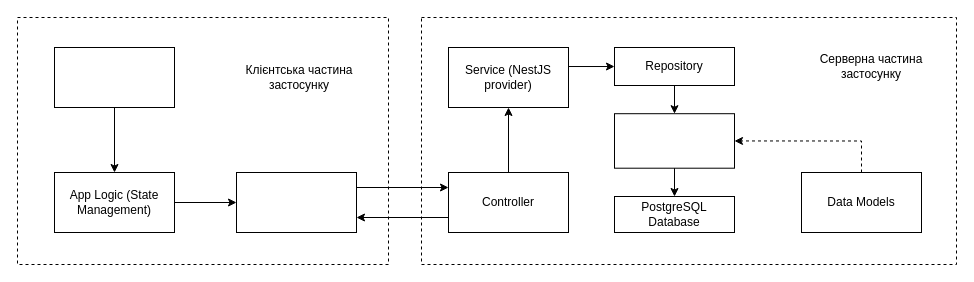
Image size: 974x282. Some labels were removed from this diagram. Here are the shapes that lost their labels. From the top down, the centre of each, then its label:
At point (114, 77): "React User Interface".
At point (674, 140): "Prisma ORM Engine".
At point (296, 202): "API Client".
